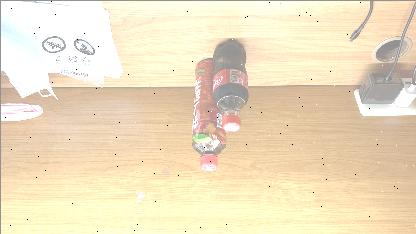Plastic Bottle: (190, 56, 226, 172), (210, 36, 248, 132)
